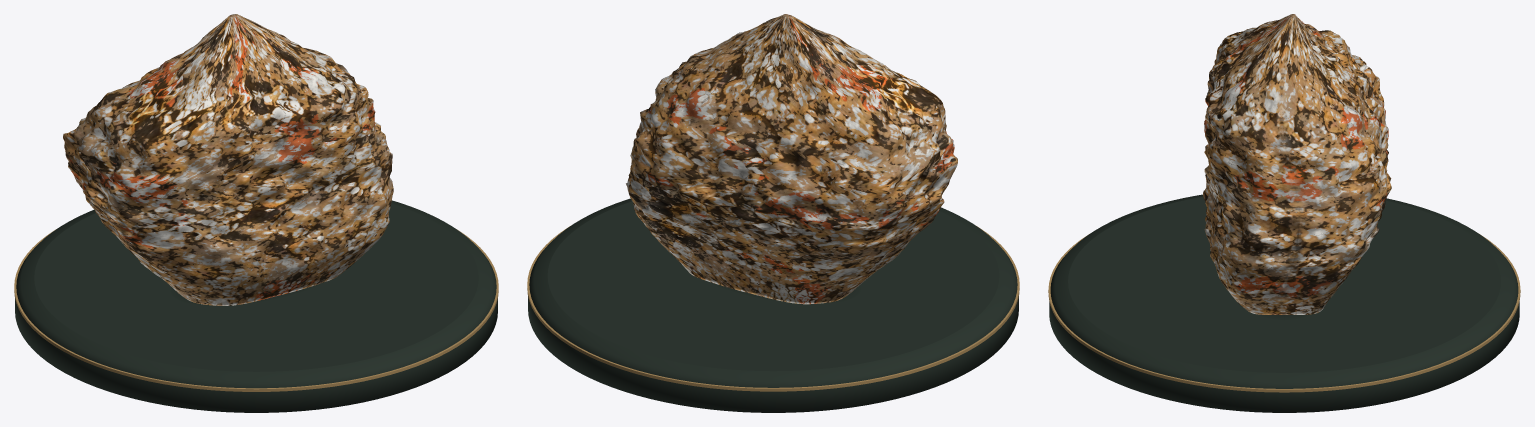
The model's file is lingstone-art-08-v20-6f8a598faaa7.glb.
3 renders of one model, left to right at view 1: azimuth 30°, elevation 25°; view 2: azimuth 150°, elevation 25°; view 3: azimuth 270°, elevation 25°, orthographic. The views are drawn at different scales.
Parts seen in each view (by area): view 1: art-d7f4c61f6e43cf84 concept stone, Centered beveled display plinth, Champagne gold edge; view 2: art-d7f4c61f6e43cf84 concept stone, Centered beveled display plinth, Champagne gold edge; view 3: Centered beveled display plinth, art-d7f4c61f6e43cf84 concept stone, Champagne gold edge.
Part boxes in pixels (x1,y1,x2,y2): art-d7f4c61f6e43cf84 concept stone: (63,14,393,305); Centered beveled display plinth: (15,200,497,412); Champagne gold edge: (14,229,498,391); art-d7f4c61f6e43cf84 concept stone: (626,14,957,304); Centered beveled display plinth: (528,198,1018,412); Champagne gold edge: (527,226,1019,391); Centered beveled display plinth: (1049,194,1519,412); art-d7f4c61f6e43cf84 concept stone: (1203,14,1391,314); Champagne gold edge: (1048,234,1520,392).
Size of the model in its own units: 2.33 by 1.6 by 2.33.
4 materials, 1 textured.
